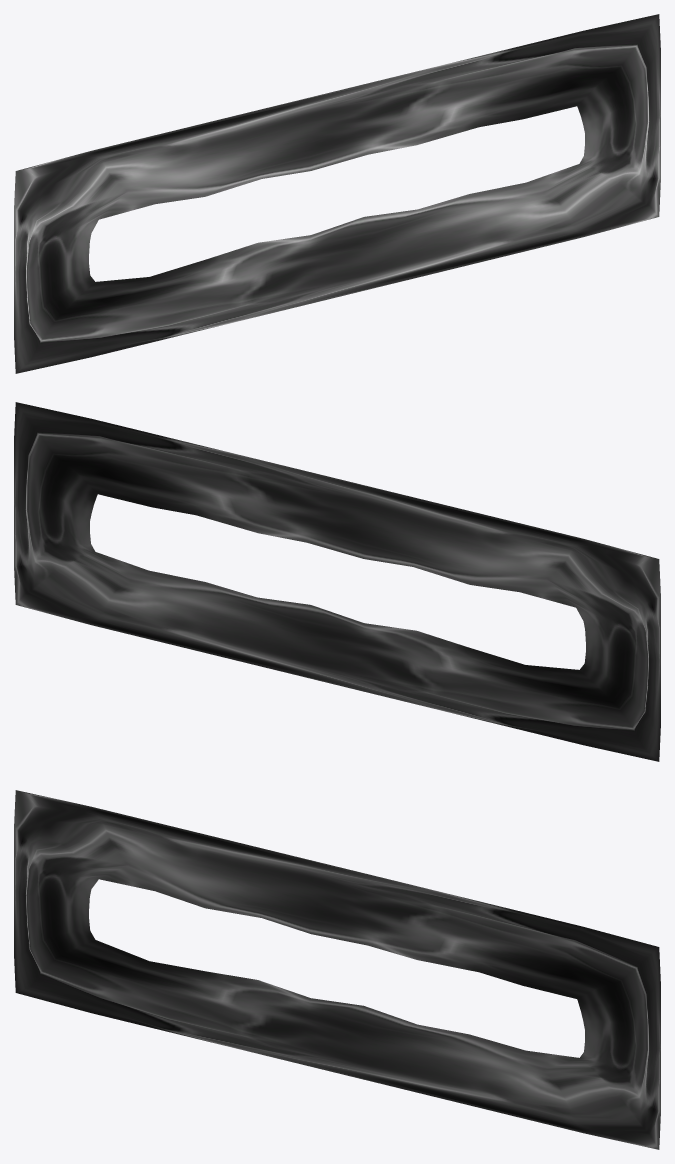
Rendered from anniu_liuguang.FBX.
3 renders of one model, top to bottom at view 1: azimuth 30°, elevation 25°; view 2: azimuth 150°, elevation 25°; view 3: azimuth 330°, elevation 25°, orthographic.
Visible parts, largest first — view 1: anniu_liuguang; view 2: anniu_liuguang; view 3: anniu_liuguang.
Boxes of the visible parts, bbox=[...] form: anniu_liuguang: bbox=[14, 14, 660, 373]; anniu_liuguang: bbox=[14, 402, 660, 761]; anniu_liuguang: bbox=[14, 790, 660, 1149].
Size of the model in its own units: 185 by 56.32 by 1.77e-05.
